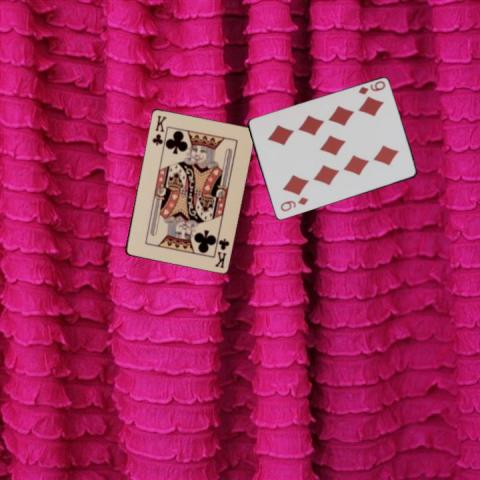9d: (278, 194, 310, 213), (354, 78, 386, 96)
Kc: (211, 235, 231, 269), (149, 112, 167, 146)
